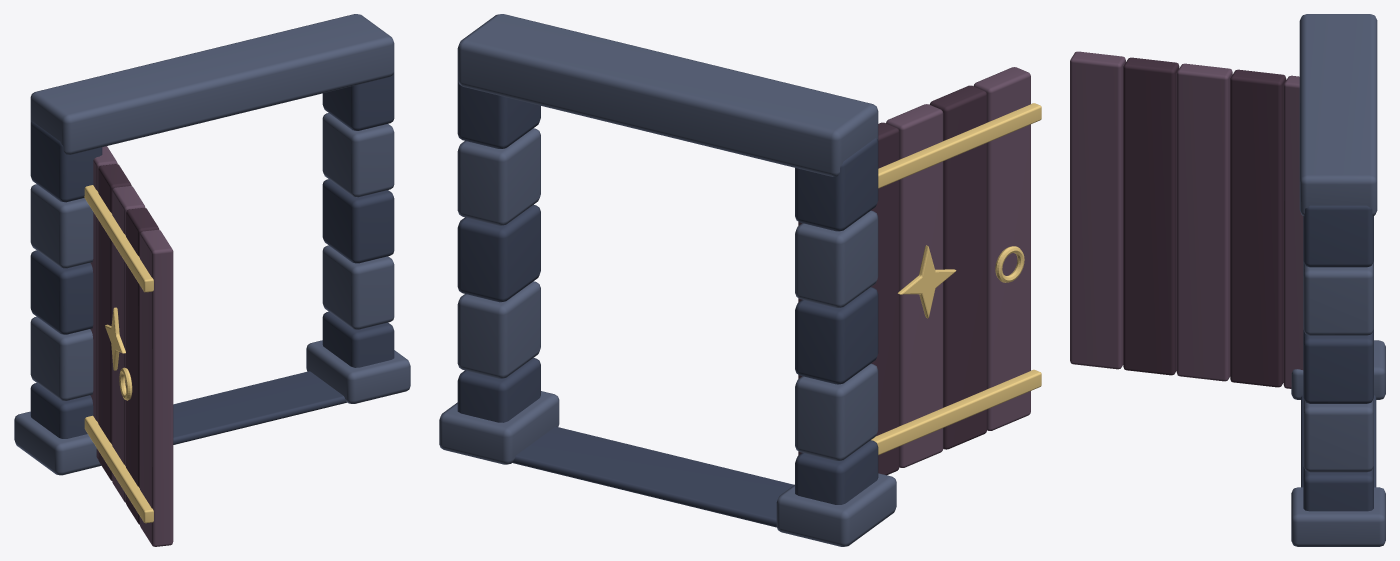
File: ordinary_door.glb
3 renders of one model, left to right at view 1: azimuth 30°, elevation 25°; view 2: azimuth 150°, elevation 25°; view 3: azimuth 270°, elevation 25°, orthographic. The views are drawn at different scales.
Parts seen in each view (by area): view 1: Ordinary_lintel, Door_plank_4, Ordinary_threshold, Ordinary_jamb_1_1, Ordinary_jamb_1_2, Ordinary_jamb_1_3, Ordinary_jamb_-1_2, Ordinary_jamb_-1_1, Ordinary_jamb_-1_3, Door_plank_1, Door_plank_3, Ordinary_foot_1 (+10 smaller); view 2: Ordinary_lintel, Door_plank_3, Door_plank_4, Door_plank_2, Ordinary_threshold, Door_plank_1, Ordinary_jamb_1_2, Ordinary_jamb_-1_2, Ordinary_jamb_-1_3, Ordinary_jamb_1_1, Ordinary_jamb_1_3, Ordinary_jamb_-1_1 (+9 smaller); view 3: Door_plank_2, Door_plank_1, Door_plank_3, Door_plank_4, Ordinary_lintel, Door_plank_0, Ordinary_jamb_1_3, Ordinary_jamb_1_1, Ordinary_jamb_1_2, Ordinary_jamb_1_4, Ordinary_foot_1, Ordinary_jamb_1_0 (+2 smaller).
Part boxes in pixels (bbox=[...]): Ordinary_lintel: bbox=[30, 14, 394, 154]; Door_plank_4: bbox=[140, 229, 173, 546]; Ordinary_threshold: bbox=[173, 371, 346, 444]; Ordinary_jamb_1_1: bbox=[322, 245, 394, 329]; Ordinary_jamb_1_2: bbox=[322, 179, 394, 263]; Ordinary_jamb_1_3: bbox=[322, 113, 394, 197]; Ordinary_jamb_-1_2: bbox=[30, 250, 93, 334]; Ordinary_jamb_-1_1: bbox=[30, 316, 93, 400]; Ordinary_jamb_-1_3: bbox=[30, 184, 93, 268]; Door_plank_1: bbox=[98, 164, 131, 480]; Door_plank_3: bbox=[126, 208, 159, 524]; Ordinary_foot_1: bbox=[306, 340, 410, 403]; Ordinary_lintel: bbox=[457, 14, 878, 176]; Door_plank_3: bbox=[930, 85, 987, 449]; Door_plank_4: bbox=[973, 67, 1030, 430]; Door_plank_2: bbox=[886, 104, 943, 467]; Ordinary_threshold: bbox=[513, 426, 794, 527]; Door_plank_1: bbox=[871, 122, 899, 475]; Ordinary_jamb_1_2: bbox=[457, 205, 540, 302]; Ordinary_jamb_-1_2: bbox=[795, 287, 878, 384]; Ordinary_jamb_-1_3: bbox=[795, 210, 878, 307]; Ordinary_jamb_1_1: bbox=[457, 281, 540, 378]; Ordinary_jamb_1_3: bbox=[457, 128, 540, 225]; Ordinary_jamb_-1_1: bbox=[795, 363, 878, 460]; Door_plank_2: bbox=[1176, 63, 1232, 381]; Door_plank_1: bbox=[1230, 69, 1286, 387]; Door_plank_3: bbox=[1123, 57, 1179, 375]; Door_plank_4: bbox=[1070, 51, 1125, 369]; Ordinary_lintel: bbox=[1299, 14, 1377, 215]; Door_plank_0: bbox=[1283, 75, 1303, 388]; Ordinary_jamb_1_3: bbox=[1303, 261, 1373, 335]; Ordinary_jamb_1_1: bbox=[1303, 398, 1373, 472]; Ordinary_jamb_1_2: bbox=[1303, 329, 1373, 403]; Ordinary_jamb_1_4: bbox=[1303, 205, 1373, 267]; Ordinary_foot_1: bbox=[1291, 487, 1385, 546]; Ordinary_jamb_1_0: bbox=[1303, 466, 1373, 511].
Bounding box in the file's own units: 3.67 × 3.32 × 2.6.
